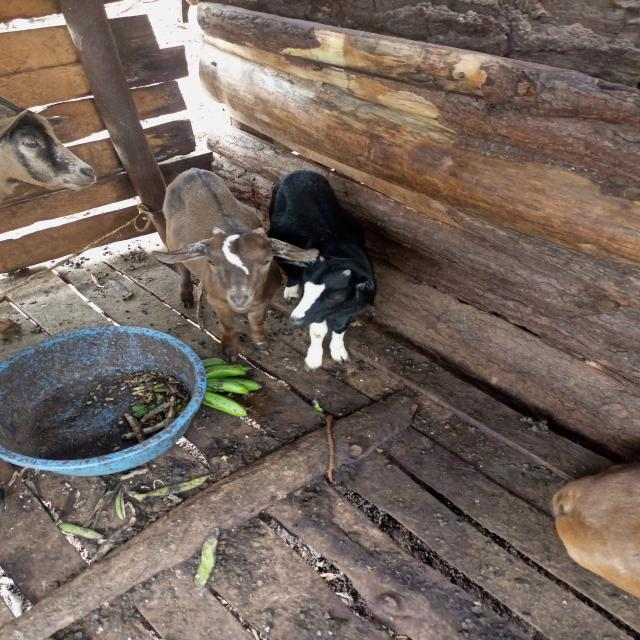goat: (129, 141, 335, 377)
